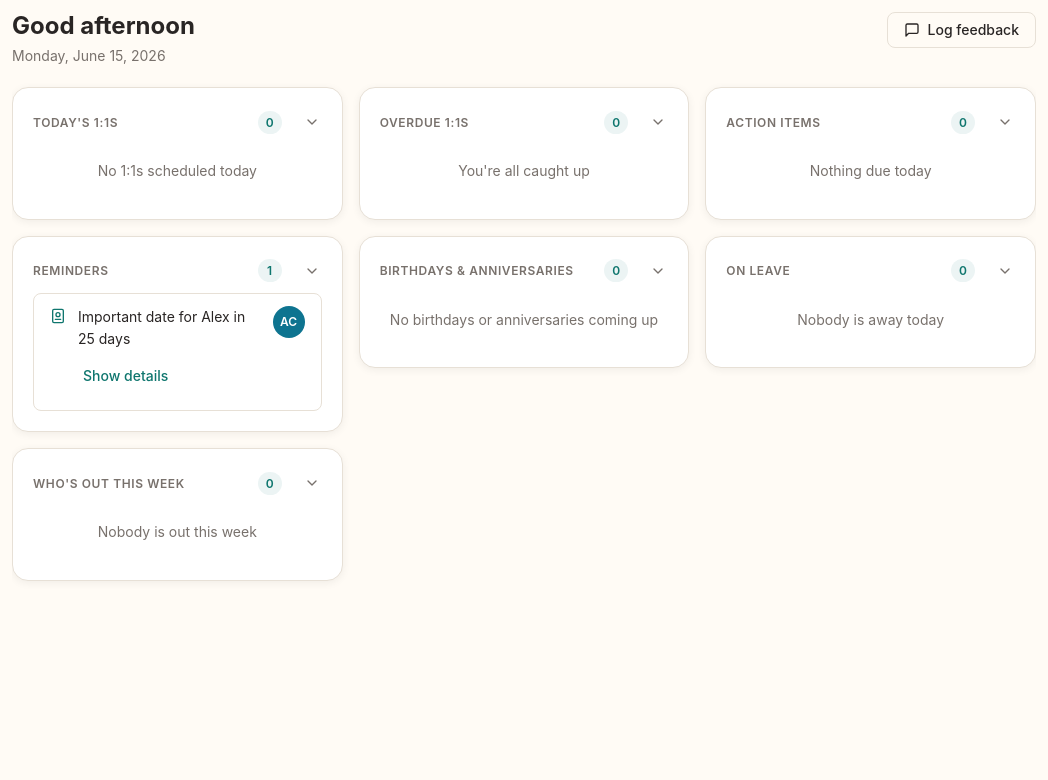
Test: date reminders on the dashboard › reveals the kind and date of a visa reminder only when asked, and hides them again
Click the button with aria-label "Show details for Alex's important date" at (126, 376), box [66,354,185,398]
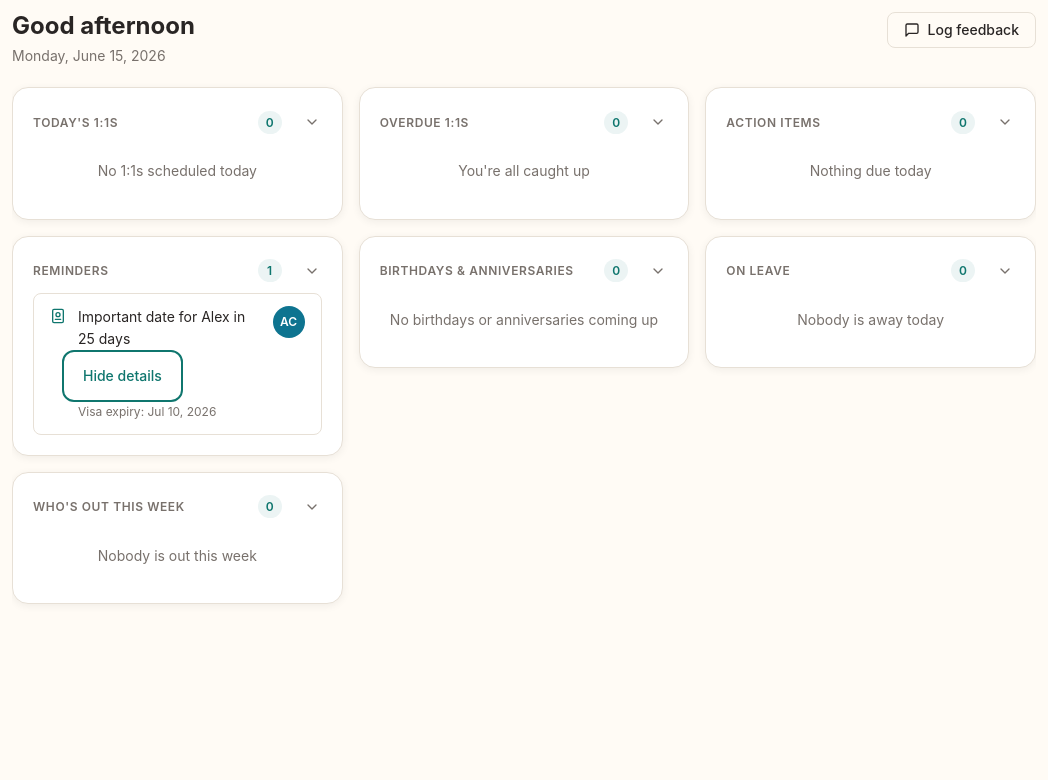
Expected: the text "Visa expiry: Jul 10, 2026" is shown, [78,404,216,419]
Expected: the button with aria-label "Hide details for Alex's important date" is expanded
Click the button with aria-label "Hide details for Alex's important date" at (122, 376), box [66,354,179,398]
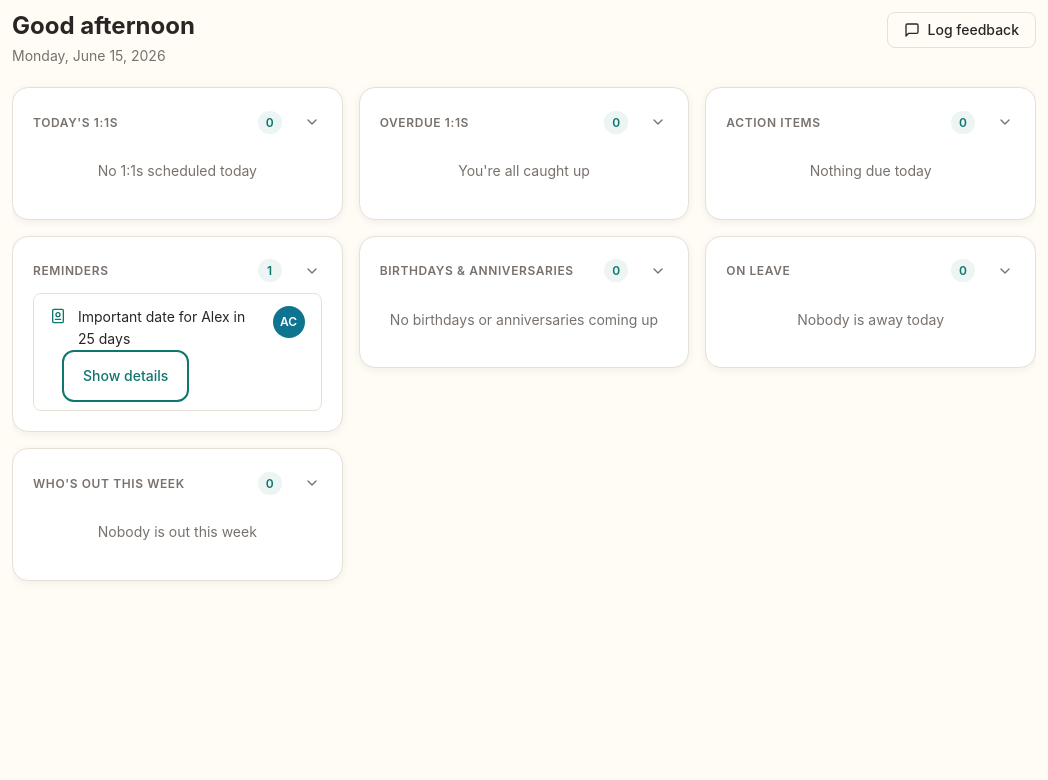
Expected: the text "Visa expiry" is gone
